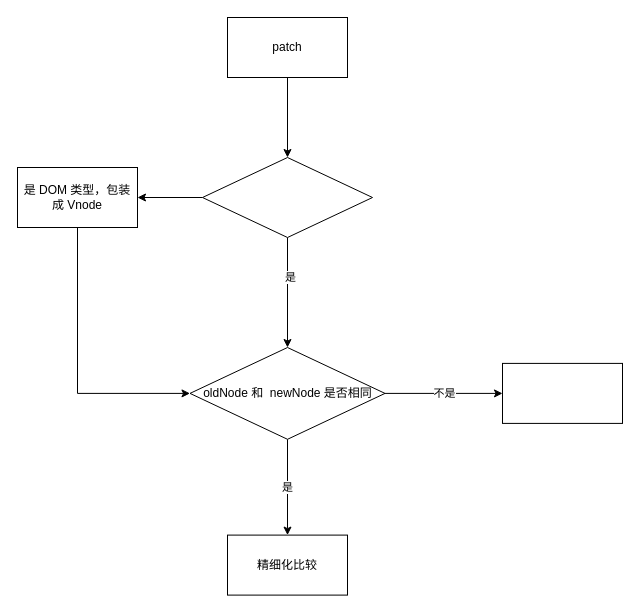
Image size: 640x613. Some labels were removed from this diagram. Each missing label, with the box of its shape:
oldVnode 是虚拟节点？: (202, 156, 372, 238)
删除旧的，插入新的: (502, 362, 622, 423)
